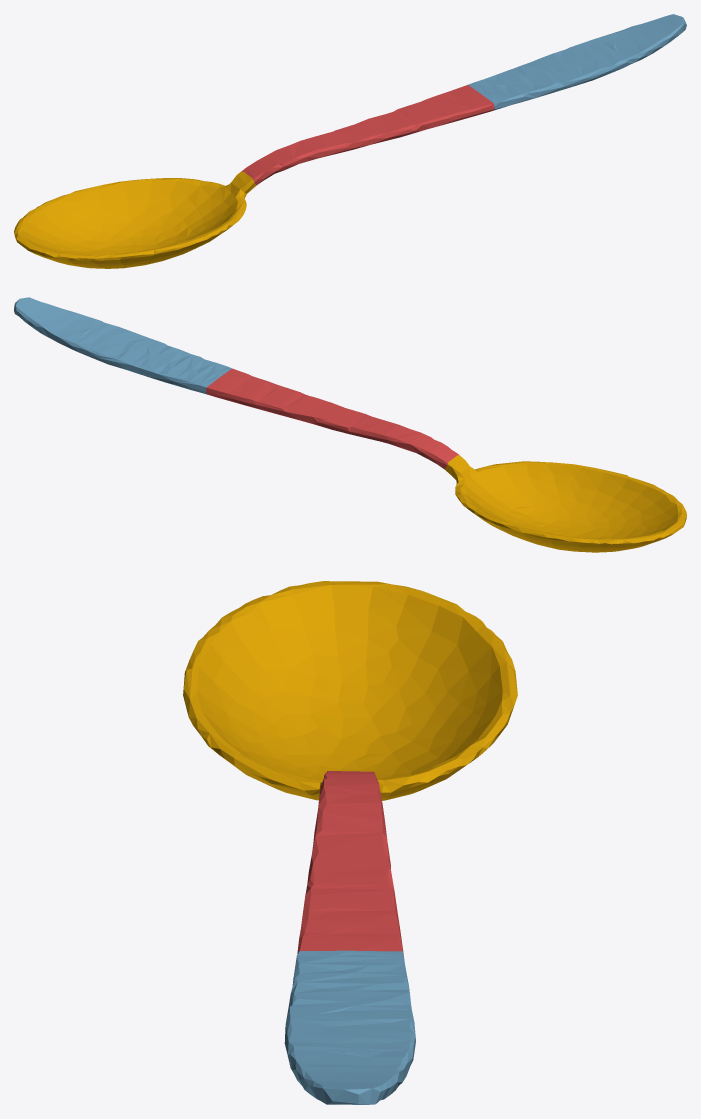
The model's file is mode_2_3pcs.glb.
The picture shows the model from 3 angles, top to bottom: view 1: azimuth 30°, elevation 25°; view 2: azimuth 150°, elevation 25°; view 3: azimuth 270°, elevation 25°; orthographic projection. The views are drawn at different scales.
Visible parts, largest first — view 1: piece_0.obj, piece_2.obj, piece_1.obj; view 2: piece_0.obj, piece_2.obj, piece_1.obj; view 3: piece_0.obj, piece_2.obj, piece_1.obj.
Boxes of the visible parts, x1,y1,x2,y2 form: piece_0.obj: (14, 171, 256, 268); piece_2.obj: (468, 14, 686, 110); piece_1.obj: (241, 85, 494, 185); piece_0.obj: (445, 455, 686, 552); piece_2.obj: (14, 297, 231, 394); piece_1.obj: (206, 368, 458, 469); piece_0.obj: (183, 581, 517, 800); piece_2.obj: (284, 950, 415, 1104); piece_1.obj: (297, 771, 403, 956).
Bounding box in the file's own units: 1 × 0.152 × 0.2193.
